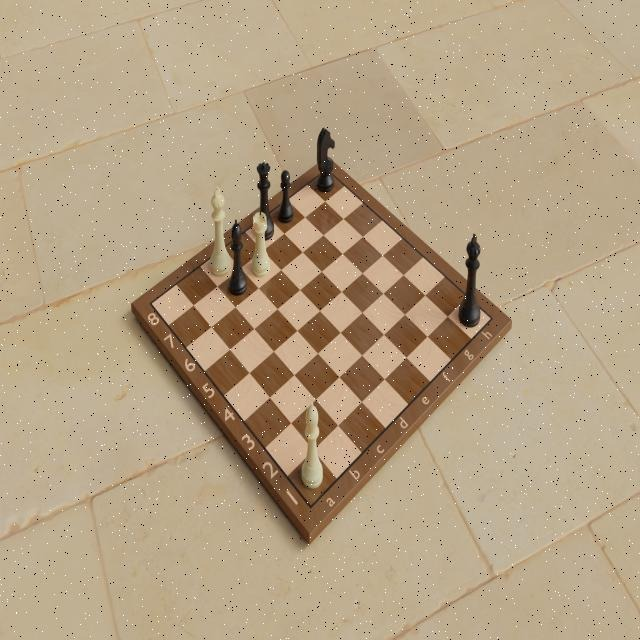black-bishop: (226, 218, 250, 297)
black-king: (457, 230, 482, 331)
black-knight: (316, 126, 336, 194)
black-pawn: (275, 167, 295, 225)
black-queen: (253, 160, 275, 242)
white-bishop: (299, 399, 325, 492)
white-king: (207, 184, 233, 276)
white-rook: (249, 212, 270, 280)
